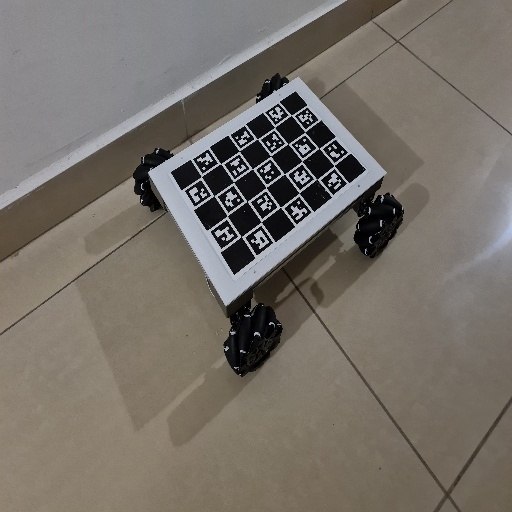Omniwheel: (132, 72, 406, 379)
